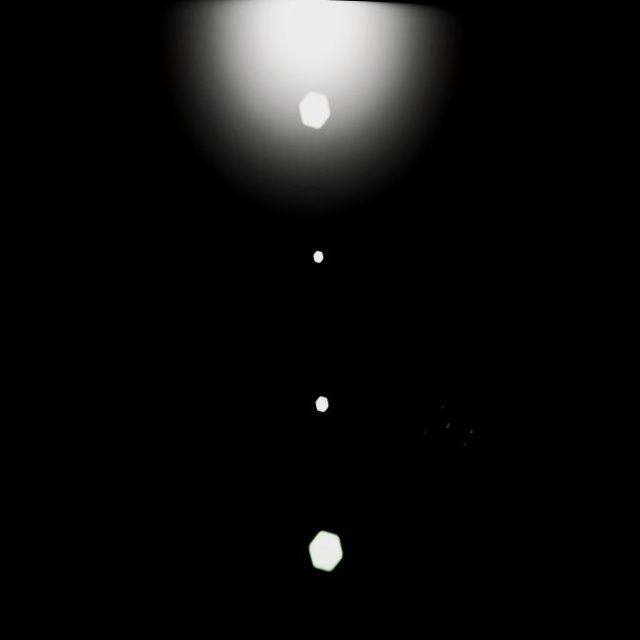satellite: (408, 386, 490, 501)
